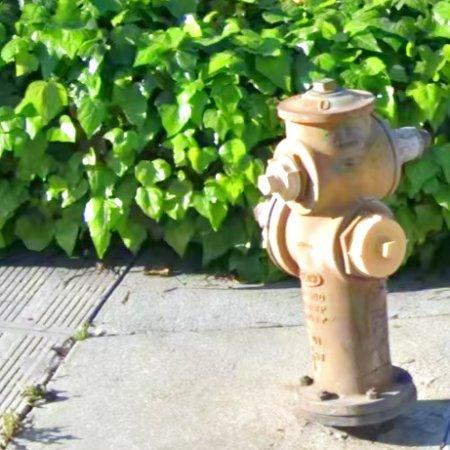a fire hydrant: (255, 80, 432, 428)
